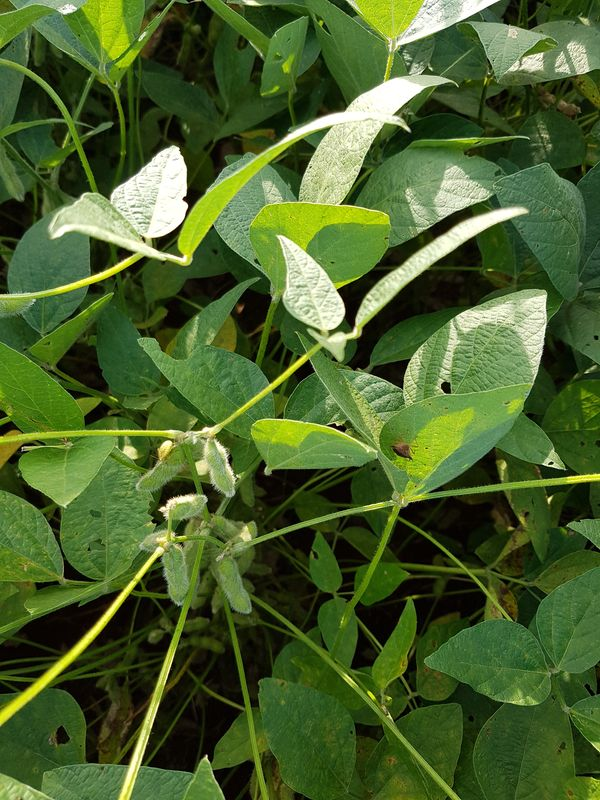Euschistus_heros_adulto: (387, 432, 422, 465)
Euschistus_heros_ninfa: (153, 437, 178, 464)
